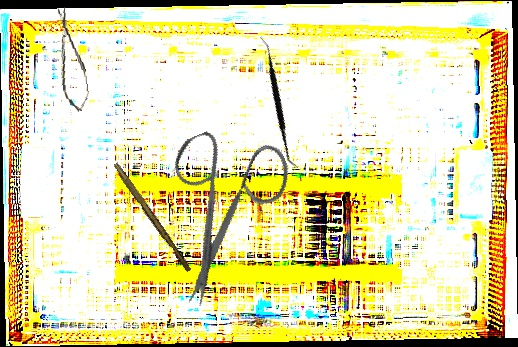Iris Scissors: (129, 107, 325, 310)
Micro Scissor: (51, 5, 92, 114)
Scalpel Handle: (110, 162, 194, 273)
Spatula Surgical: (212, 35, 346, 170)
